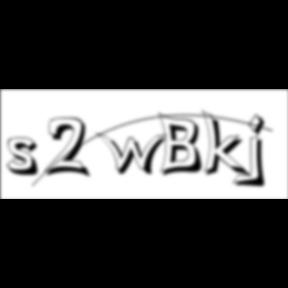2: (45, 117, 95, 181)
B: (158, 111, 208, 179)
j: (246, 113, 272, 191)
k: (201, 108, 254, 181)
s: (8, 137, 46, 179)
w: (96, 132, 174, 178)
